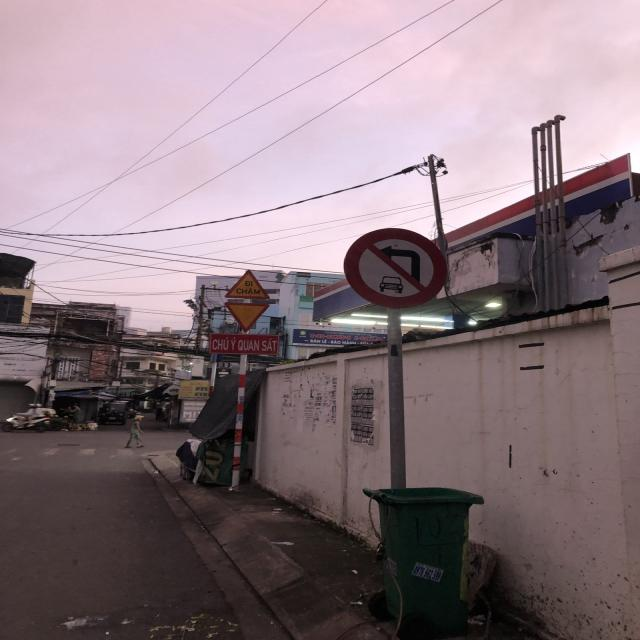Bien bao cam xe o to re trai: (338, 224, 454, 314)
Bien bao di cham: (221, 268, 275, 301)
Bien bao giao nhau voi duong uu tien: (222, 300, 279, 334)
